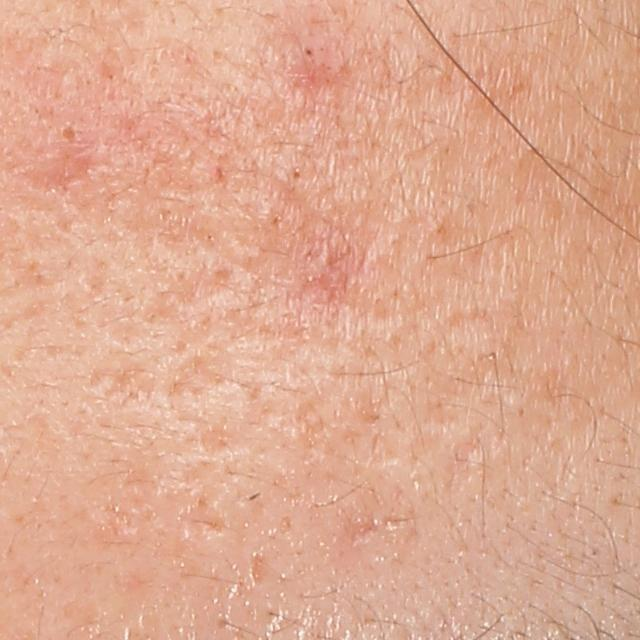atrophic_scar: (143, 260, 246, 311), (167, 344, 236, 396), (85, 360, 160, 402), (176, 500, 229, 542), (249, 552, 270, 587)
comedo: (288, 164, 303, 180)
